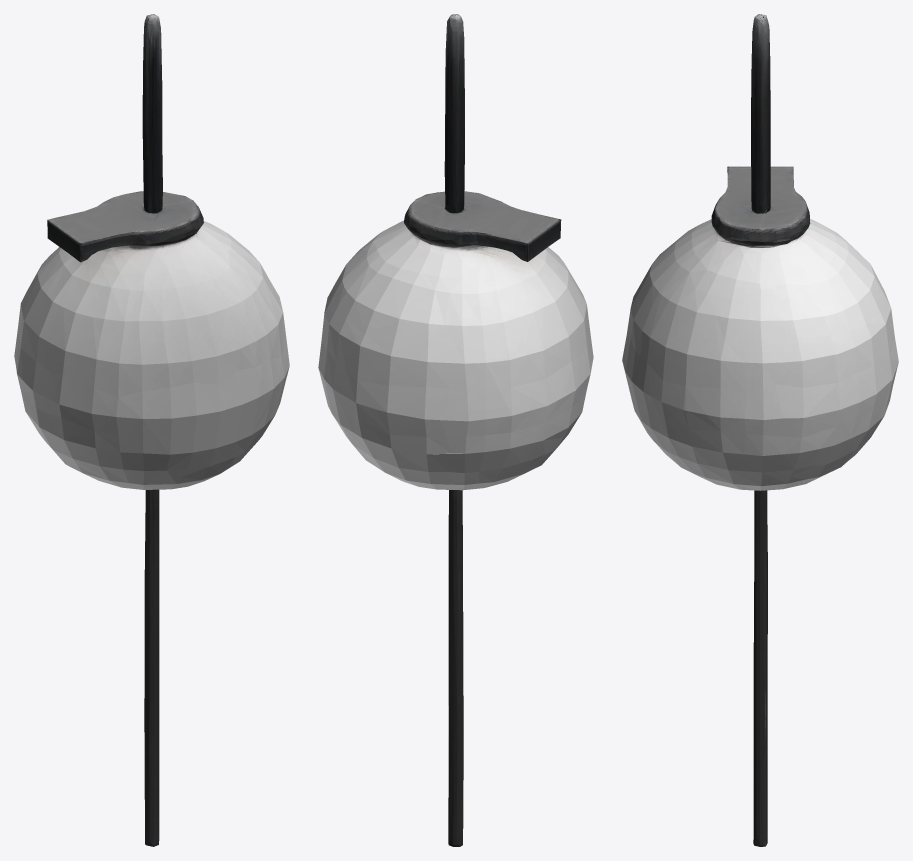
3 renders of one model, left to right at view 1: azimuth 30°, elevation 25°; view 2: azimuth 150°, elevation 25°; view 3: azimuth 270°, elevation 25°, orthographic.
Parts seen in each view (by area): view 1: world; view 2: world; view 3: world.
Part boxes in pixels (box(x1,y1,x2,y2)): world: box(14, 14, 289, 846); world: box(318, 14, 593, 846); world: box(622, 14, 898, 846).
Size of the model in its own units: 0.3019 by 1 by 0.3024.
1 material, 1 textured.
